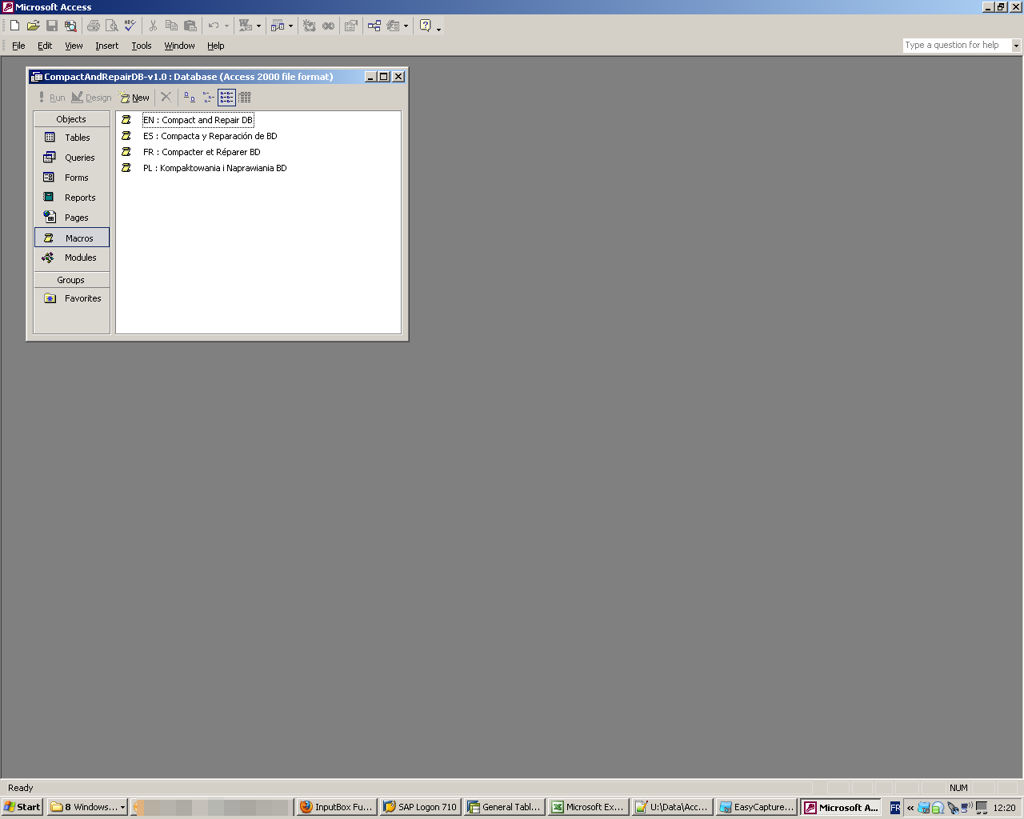button: (129, 797, 295, 818), (35, 247, 110, 272), (379, 797, 463, 819), (295, 797, 378, 819), (462, 798, 548, 819), (44, 797, 128, 818), (799, 798, 882, 819), (714, 798, 799, 818), (631, 798, 715, 818), (547, 798, 631, 817), (34, 146, 109, 167), (35, 186, 110, 207), (35, 166, 110, 186), (35, 227, 110, 247), (34, 288, 110, 307), (35, 208, 110, 227), (33, 128, 109, 146), (69, 86, 115, 109), (115, 87, 154, 109), (1, 797, 44, 816), (33, 87, 69, 109), (160, 40, 201, 53), (268, 17, 297, 35), (155, 87, 178, 109), (202, 18, 233, 34), (233, 18, 264, 34), (90, 39, 125, 53), (179, 87, 200, 109), (216, 87, 236, 109), (416, 18, 443, 34), (126, 40, 159, 53), (385, 18, 411, 34), (202, 40, 234, 53), (60, 40, 89, 53), (237, 87, 254, 109), (33, 39, 59, 53), (200, 87, 216, 109), (340, 18, 362, 34), (363, 18, 385, 34), (7, 39, 32, 53), (61, 18, 82, 34), (42, 17, 61, 34), (82, 18, 102, 34), (141, 18, 161, 34), (181, 18, 201, 34), (299, 18, 319, 34), (887, 798, 903, 818), (24, 18, 43, 34), (121, 18, 140, 34), (162, 18, 181, 34), (103, 18, 121, 34), (320, 18, 338, 34), (974, 800, 990, 817), (960, 799, 975, 817), (945, 800, 960, 817), (7, 18, 22, 34), (931, 800, 945, 817), (917, 800, 931, 816), (1011, 37, 1024, 53), (391, 70, 406, 83), (905, 800, 916, 817), (377, 70, 391, 83), (364, 70, 377, 83), (994, 1, 1008, 13), (1009, 1, 1023, 13), (982, 1, 995, 13)
common: (2, 780, 41, 795), (991, 801, 1021, 814), (947, 781, 970, 794)
container: (1, 1, 1024, 797), (25, 66, 410, 342), (1, 797, 1024, 819), (1, 14, 1024, 36), (1, 36, 1024, 55), (1, 778, 1024, 796), (33, 110, 110, 334), (1, 1, 1024, 13), (29, 84, 406, 109), (1, 15, 444, 36)
header: (43, 71, 335, 84), (33, 111, 110, 127), (33, 272, 110, 288), (14, 2, 94, 14)
image: (119, 113, 134, 126), (119, 129, 134, 142), (120, 162, 134, 175), (120, 146, 134, 158)
table: (115, 110, 400, 333)
table-cell: (142, 160, 402, 178), (142, 143, 402, 160), (142, 112, 402, 128), (142, 128, 402, 144), (116, 127, 142, 144), (116, 160, 142, 177), (116, 112, 142, 128), (116, 145, 142, 161)
table-row: (115, 127, 401, 144), (116, 160, 401, 177), (115, 111, 400, 127), (115, 144, 401, 159)
text-input: (902, 38, 1011, 54)
